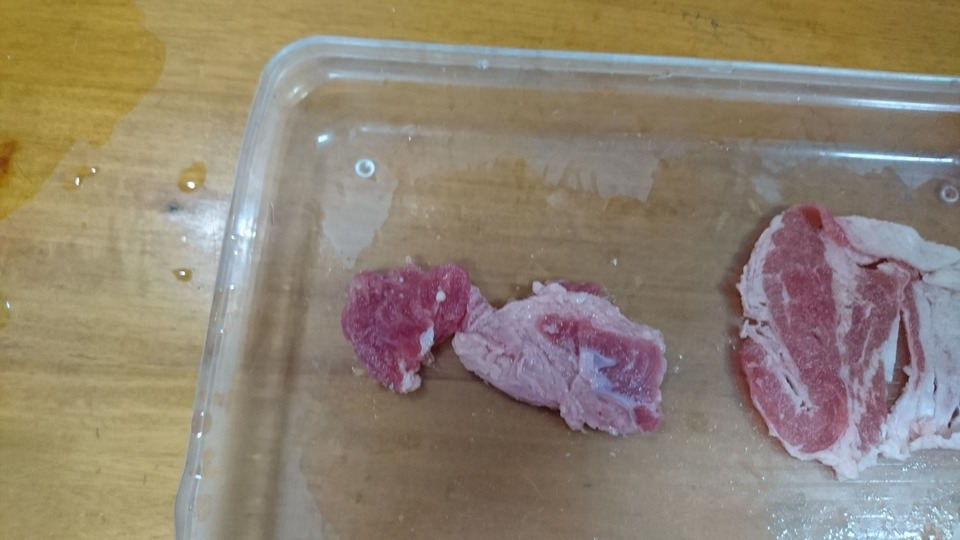restructured meat: (727, 202, 960, 474), (338, 266, 662, 429)
